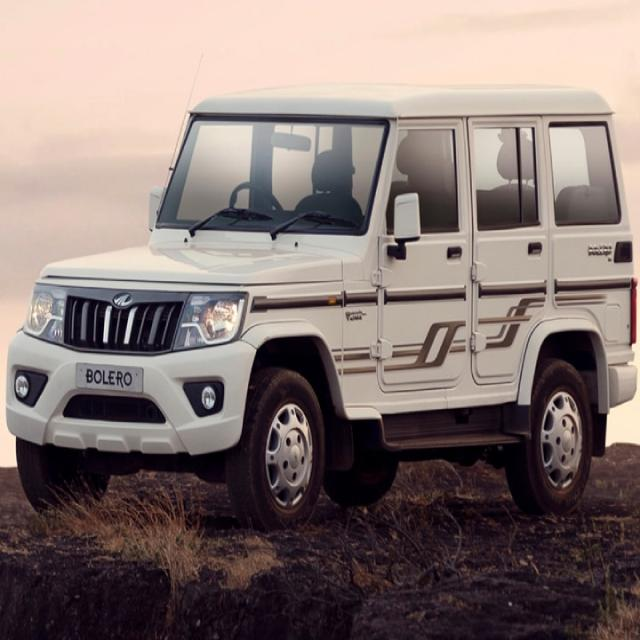light_vehicle: (6, 93, 632, 516)
